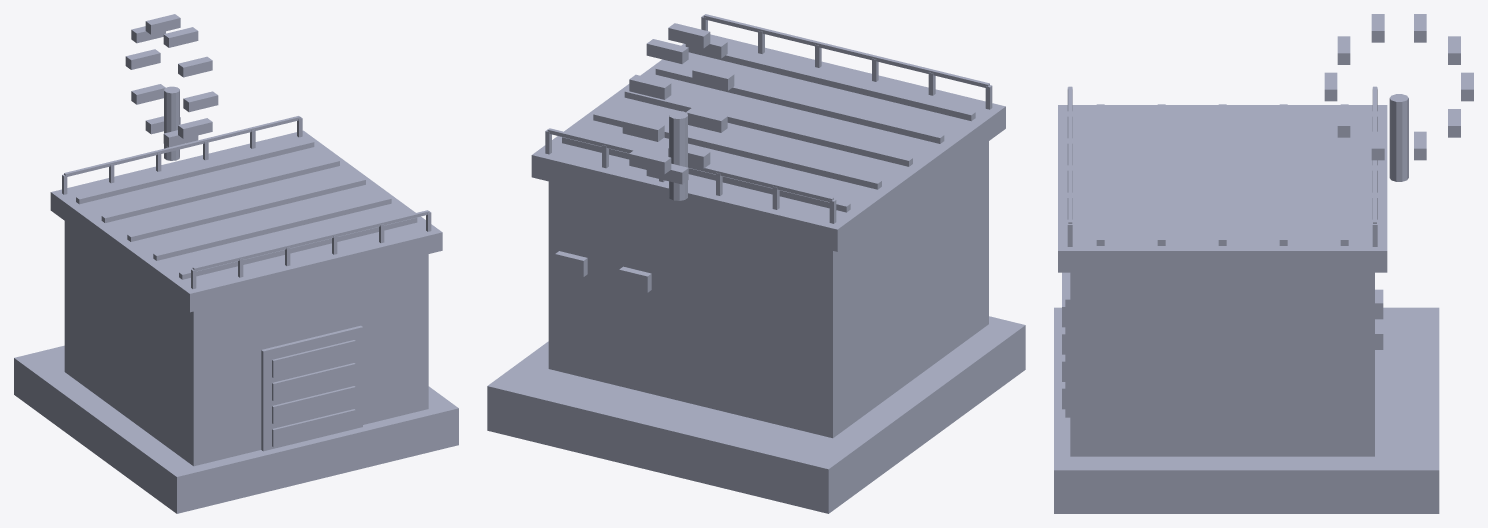
Rendered from physics_lab.glb.
3 renders of one model, left to right at view 1: azimuth 30°, elevation 25°; view 2: azimuth 150°, elevation 25°; view 3: azimuth 270°, elevation 25°, orthographic. The views are drawn at different scales.
Parts seen in each view (by area): view 1: physics_lab; view 2: physics_lab; view 3: physics_lab.
Part boxes in pixels (left/top/right/bottom): physics_lab: left=14, top=14, right=458, bottom=513; physics_lab: left=487, top=14, right=1025, bottom=513; physics_lab: left=1054, top=14, right=1473, bottom=513.
Size of the model in its own units: 4.8 by 5.64 by 5.23.
